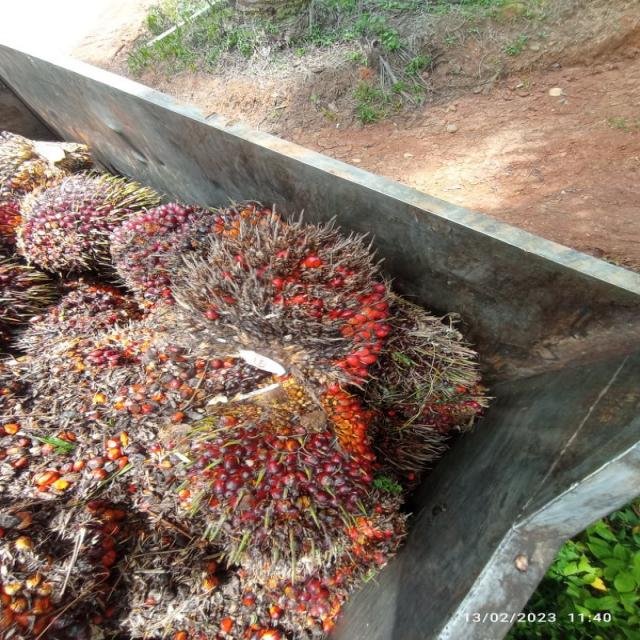fraksi 1: (9, 158, 151, 288), (90, 202, 212, 302)
fraksi 3: (178, 384, 392, 575)
fraksi 4: (165, 183, 408, 407)
